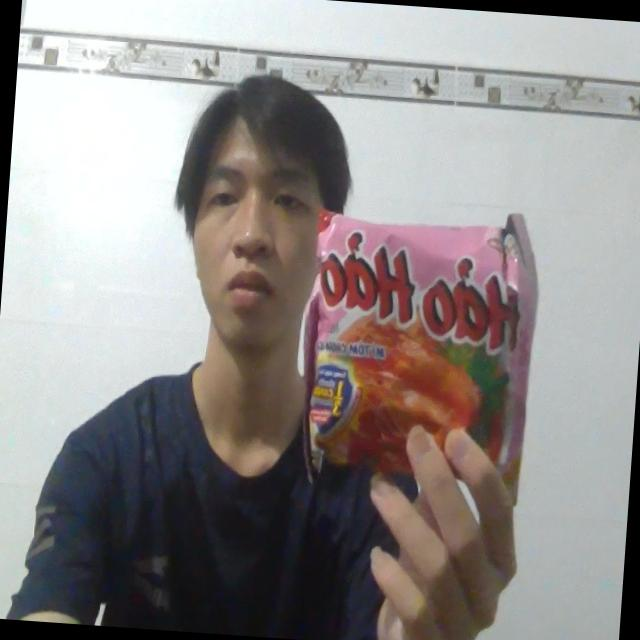mi hao hao: (286, 195, 544, 508)
